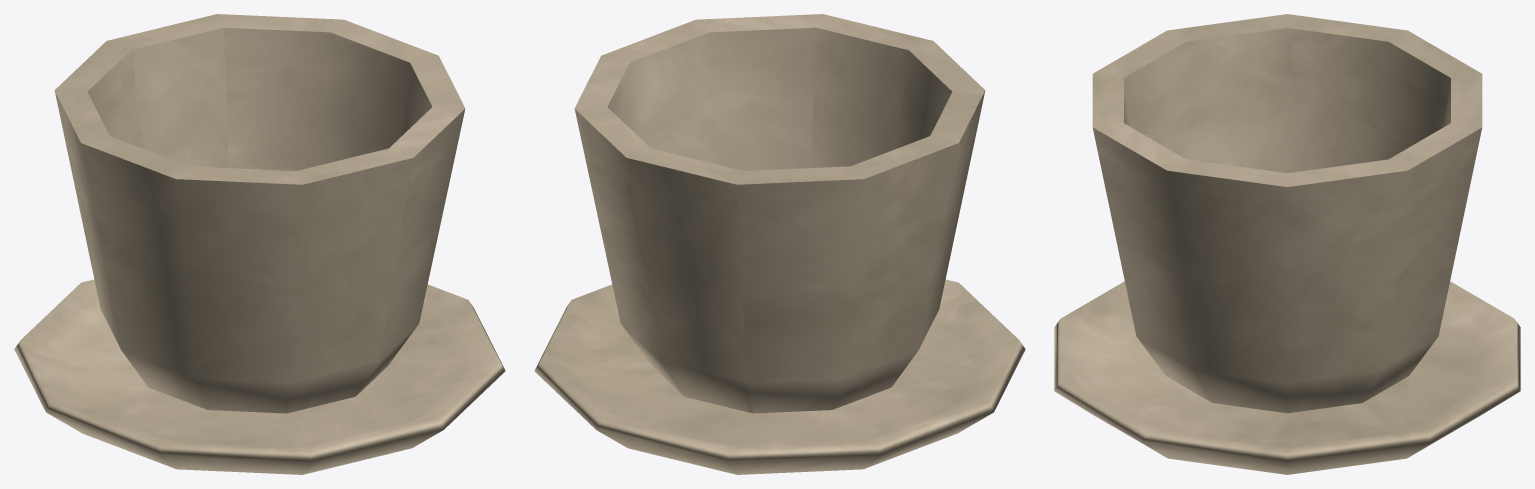
The model's file is CoffeeMug.glb.
The picture shows the model from 3 angles, left to right: view 1: azimuth 30°, elevation 25°; view 2: azimuth 150°, elevation 25°; view 3: azimuth 270°, elevation 25°; orthographic projection.
Parts seen in each view (by area): view 1: CoffeeMug; view 2: CoffeeMug; view 3: CoffeeMug.
Boxes of the visible parts, box(x1,y1,x2,y2) form: CoffeeMug: box(14, 14, 505, 474); CoffeeMug: box(534, 14, 1025, 474); CoffeeMug: box(1054, 14, 1520, 474).
Bounding box in the file's own units: 0.1203 × 0.0781 × 0.1144.
1 material, 1 textured.
